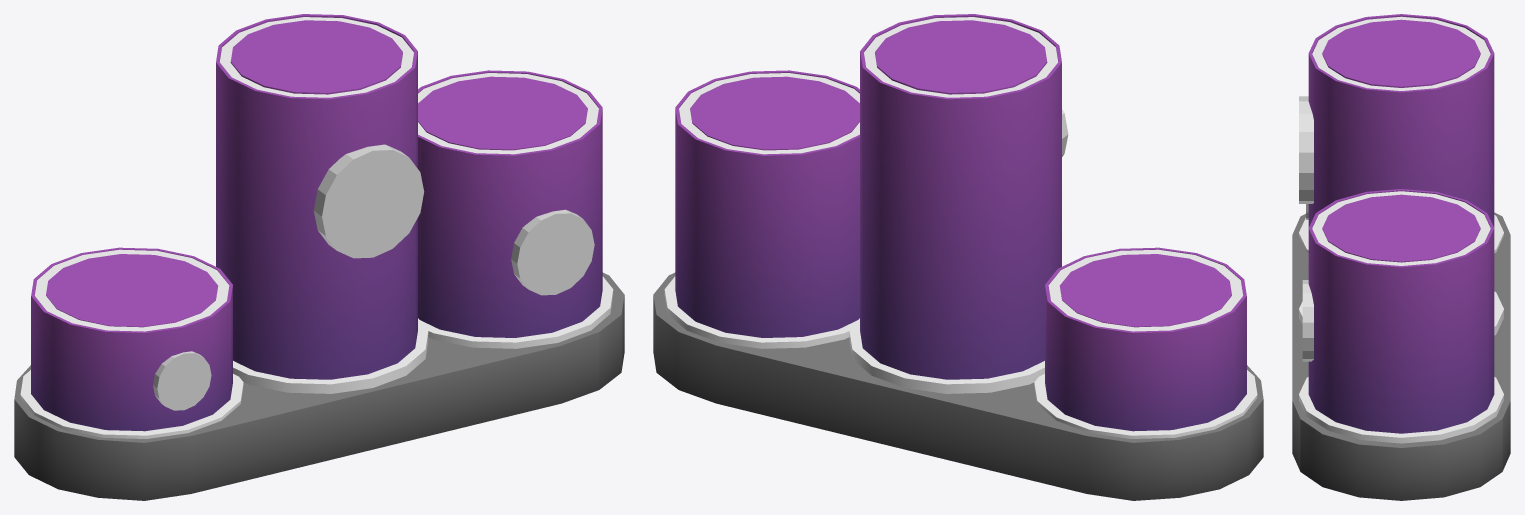
Rendered from Podium.fbx.
The picture shows the model from 3 angles, left to right: view 1: azimuth 30°, elevation 25°; view 2: azimuth 150°, elevation 25°; view 3: azimuth 270°, elevation 25°; orthographic projection. The views are drawn at different scales.
Parts seen in each view (by area): view 1: Circle, Circle.002, Circle.003, Circle.001, Circle.004, Circle.005, Circle.006; view 2: Circle, Circle.002, Circle.003, Circle.001; view 3: Circle.002, Circle, Circle.003, Circle.004, Circle.005, Circle.001.
Part boxes in pixels (x1=…): Circle: x1=216, y1=14, x2=428, y2=393; Circle.002: x1=418, y1=70, x2=613, y2=348; Circle.003: x1=14, y1=272, x2=624, y2=500; Circle.001: x1=20, y1=247, x2=243, y2=438; Circle.004: x1=314, y1=144, x2=424, y2=258; Circle.005: x1=511, y1=209, x2=594, y2=295; Circle.006: x1=153, y1=351, x2=211, y2=410; Circle: x1=849, y1=14, x2=1061, y2=393; Circle.002: x1=664, y1=70, x2=859, y2=348; Circle.003: x1=653, y1=272, x2=1263, y2=500; Circle.001: x1=1034, y1=247, x2=1257, y2=438; Circle.002: x1=1299, y1=189, x2=1503, y2=443; Circle: x1=1299, y1=14, x2=1503, y2=335; Circle.003: x1=1292, y1=212, x2=1510, y2=500; Circle.004: x1=1299, y1=96, x2=1313, y2=203; Circle.005: x1=1302, y1=280, x2=1313, y2=361; Circle.001: x1=1299, y1=215, x2=1503, y2=253.
Bounding box in the file's own units: 628 × 360 × 225.
